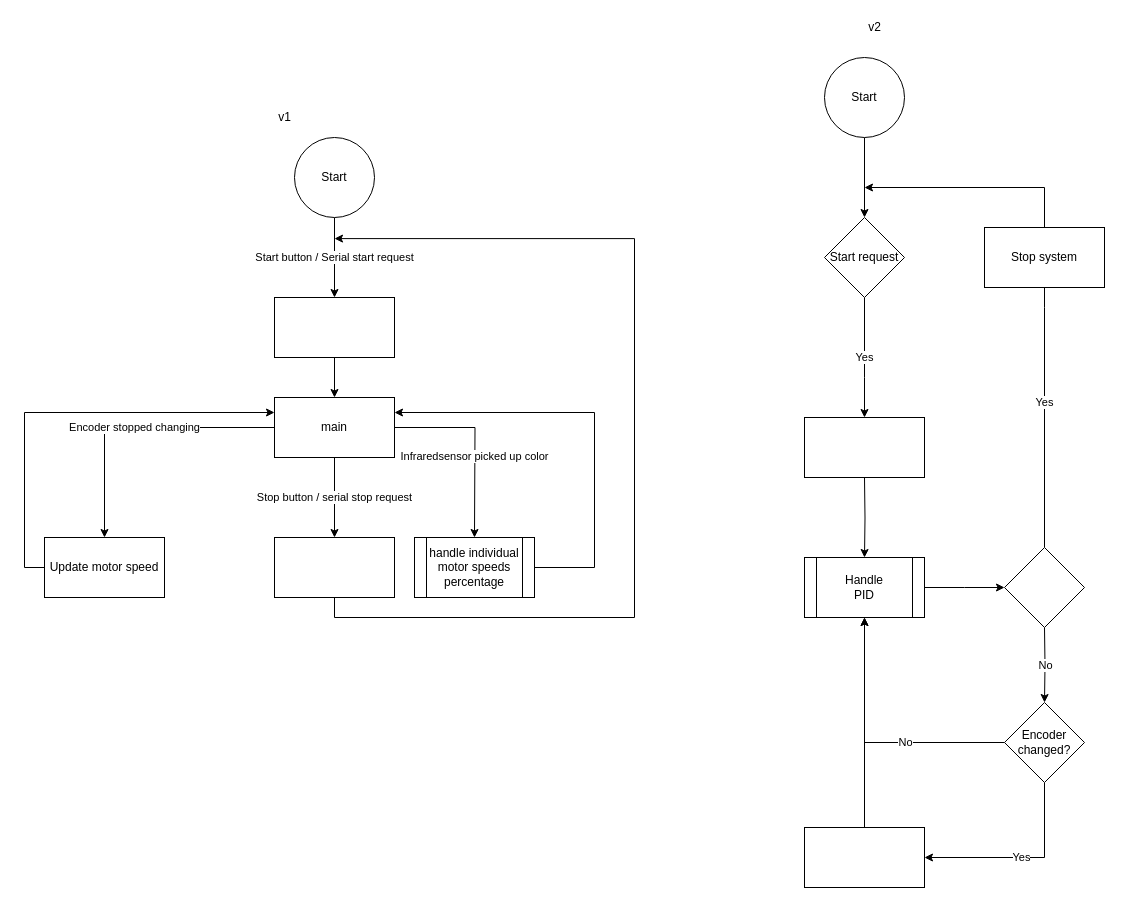
This 1122x905 diagram has some shape labels left out. The shapes that lost their labels are listed below. From the top down, each one's centre as x and y in pixels, then its label:
At [334,327]: "read encoder value start motors led on".
At [864,447]: "Start system".
At [334,567]: "stop motors led off".
At [1044,587]: "Stop request".
At [864,857]: "Update encoder speed factor".
